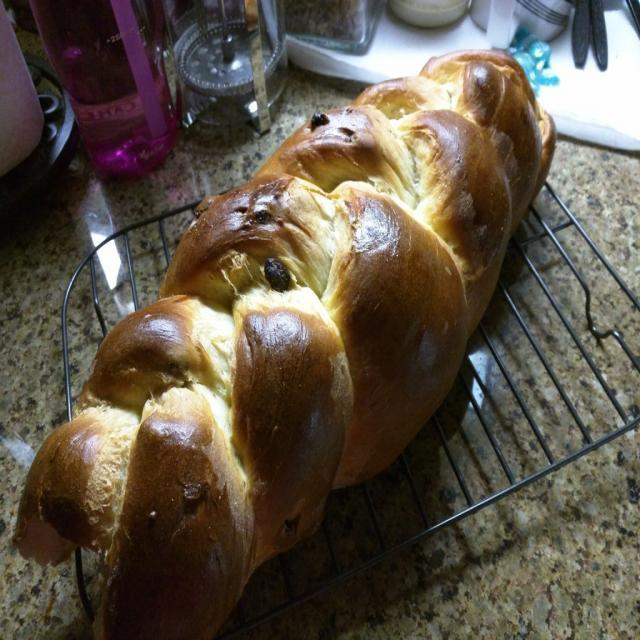Bread: (13, 52, 560, 640)
